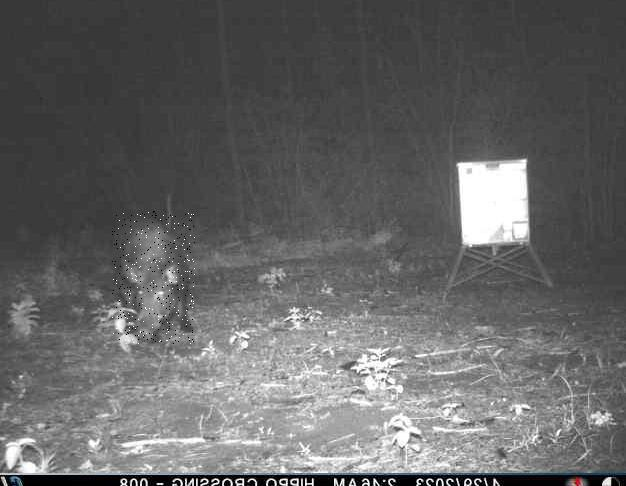Hog: (111, 211, 194, 344)
